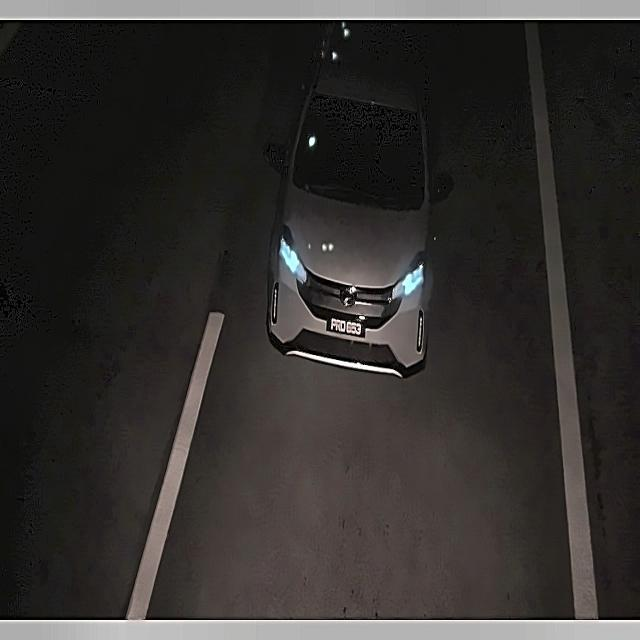car: (321, 311, 371, 341)
